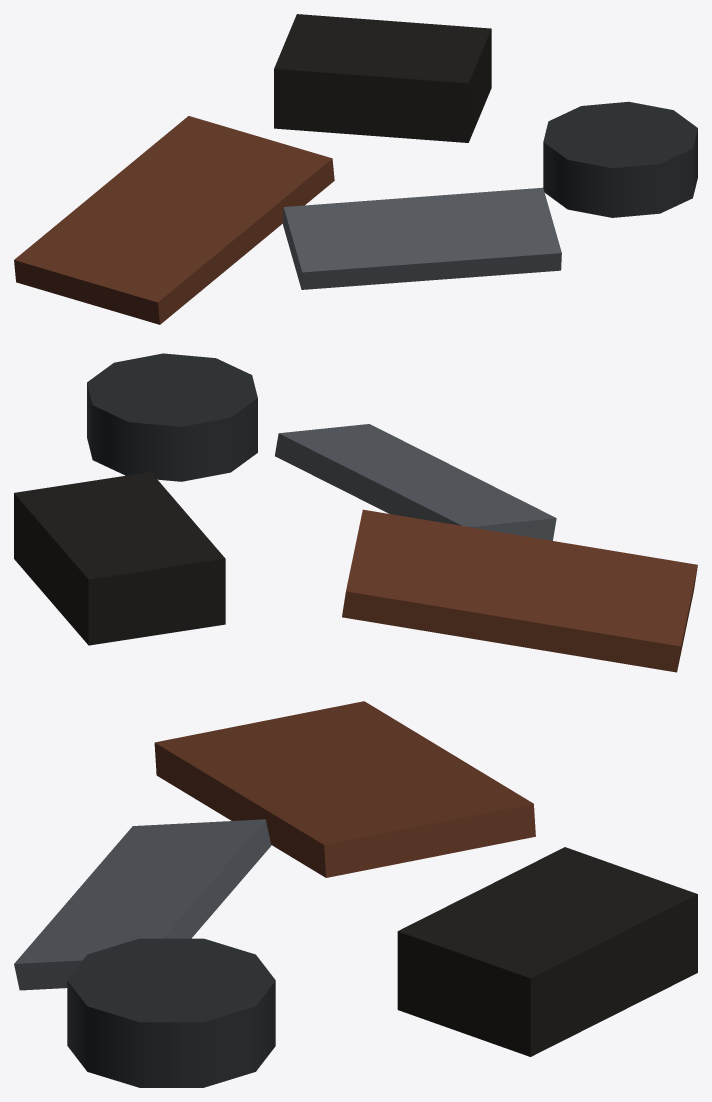
The model's file is debris.glb.
3 renders of one model, top to bottom at view 1: azimuth 30°, elevation 25°; view 2: azimuth 150°, elevation 25°; view 3: azimuth 270°, elevation 25°, orthographic. The views are drawn at different scales.
Visible parts, largest first — view 1: _MeshInstance3D_124, _MeshInstance3D_125, _MeshInstance3D_126, _MeshInstance3D_127; view 2: _MeshInstance3D_124, _MeshInstance3D_125, _MeshInstance3D_127, _MeshInstance3D_126; view 3: _MeshInstance3D_125, _MeshInstance3D_124, _MeshInstance3D_127, _MeshInstance3D_126.
Part boxes in pixels (box(x1,y1,x2,y2)): _MeshInstance3D_124: box(14, 116, 334, 324); _MeshInstance3D_125: box(274, 14, 491, 142); _MeshInstance3D_126: box(283, 187, 561, 289); _MeshInstance3D_127: box(543, 101, 697, 217); _MeshInstance3D_124: box(342, 509, 697, 672); _MeshInstance3D_125: box(14, 472, 225, 645); _MeshInstance3D_127: box(87, 353, 257, 481); _MeshInstance3D_126: box(275, 424, 556, 540); _MeshInstance3D_125: box(397, 847, 697, 1056); _MeshInstance3D_124: box(154, 701, 535, 877); _MeshInstance3D_127: box(67, 938, 275, 1087); _MeshInstance3D_126: box(14, 819, 271, 990).
Size of the model in its own units: 3.15 by 0.3868 by 2.36.
